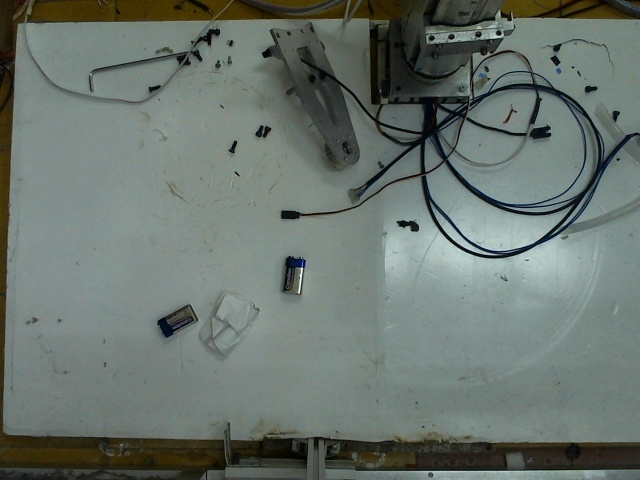battery: (157, 298, 194, 336), (281, 251, 307, 294)
